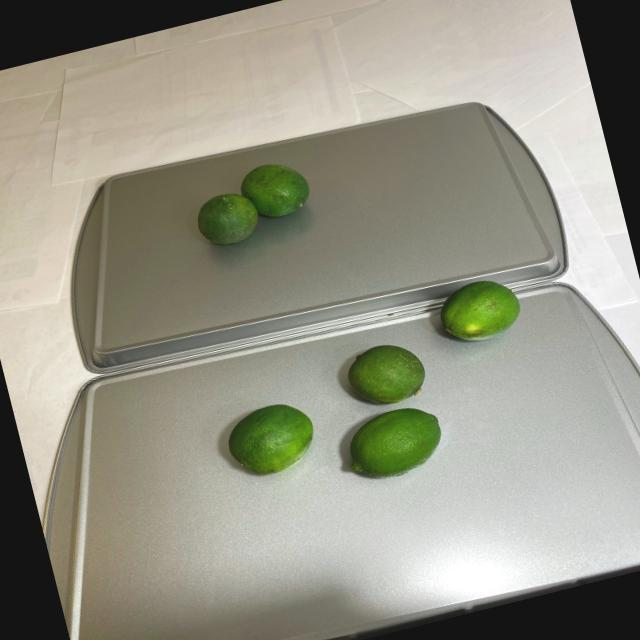lemon: (199, 270, 556, 528), (190, 152, 320, 250)
